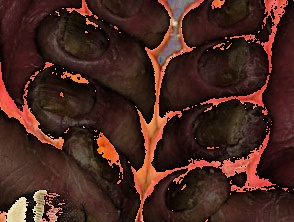Nail_psoriasis: (11, 50, 142, 164), (32, 0, 175, 88), (55, 112, 163, 216), (166, 92, 280, 177), (165, 28, 276, 114), (142, 160, 232, 222), (184, 0, 265, 46), (26, 195, 115, 222)
